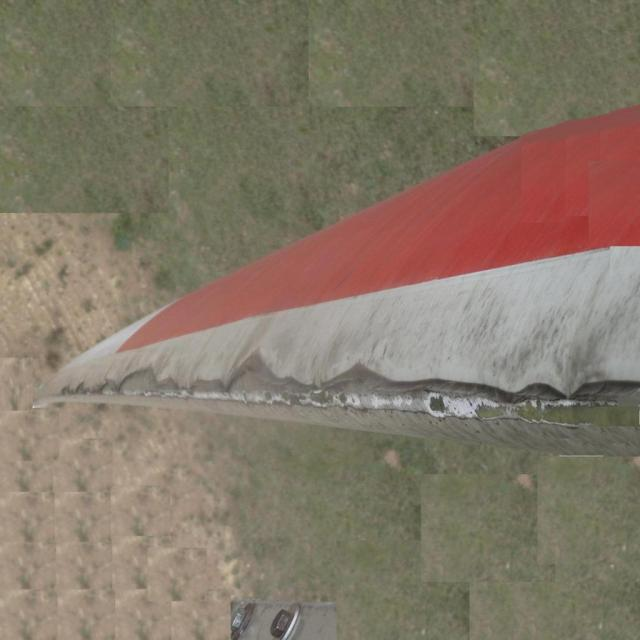crack: (64, 363, 636, 450)
